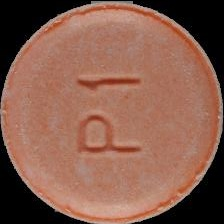54868-4850: (0, 0, 224, 224)
